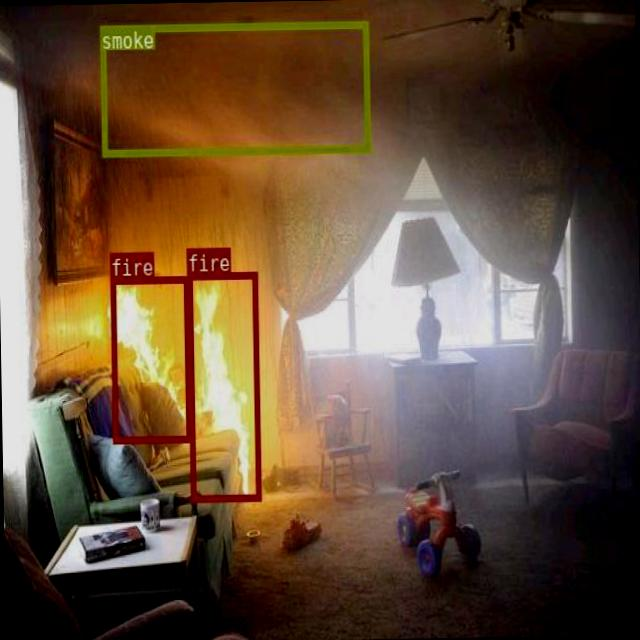fire: (186, 270, 260, 500), (109, 276, 190, 442)
smoke: (99, 21, 369, 156)
